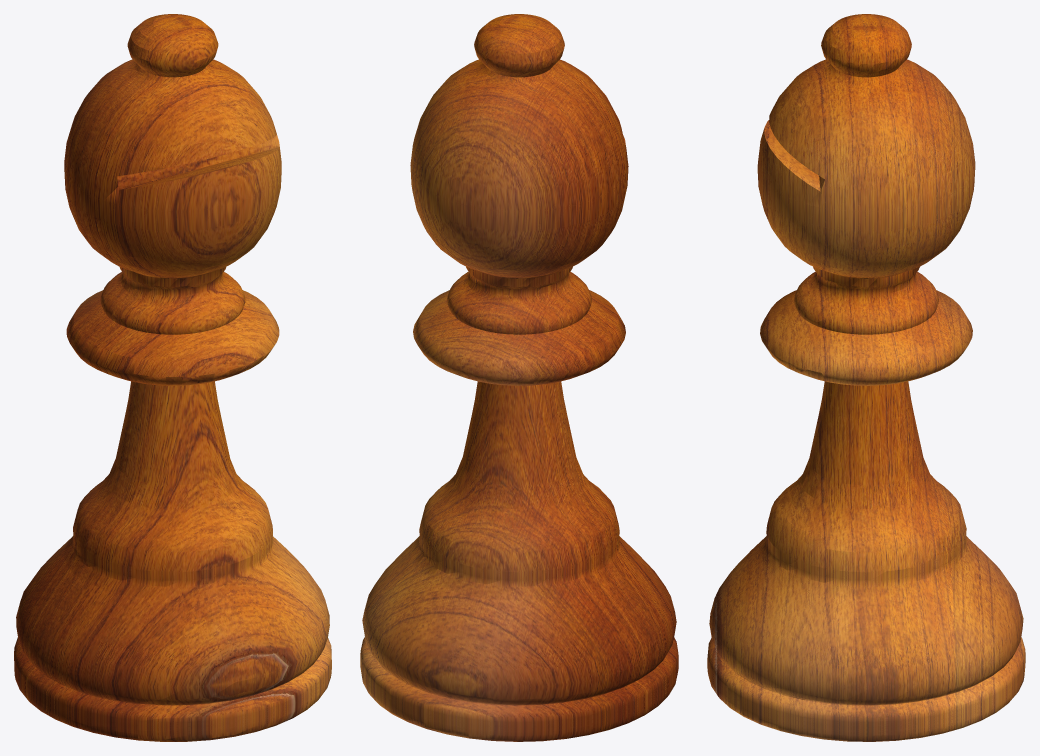
Rendered from branco-bispo.obj.
The picture shows the model from 3 angles, left to right: view 1: azimuth 30°, elevation 25°; view 2: azimuth 150°, elevation 25°; view 3: azimuth 270°, elevation 25°; orthographic projection.
Parts seen in each view (by area): view 1: ALFIERE3; view 2: ALFIERE3; view 3: ALFIERE3.
Boxes of the visible parts, left/top/right/bottom form: ALFIERE3: left=14, top=14, right=331, bottom=741; ALFIERE3: left=360, top=14, right=678, bottom=741; ALFIERE3: left=707, top=14, right=1025, bottom=741.
Bounding box in the file's own units: 157 × 357 × 157.
1 material, 1 textured.
